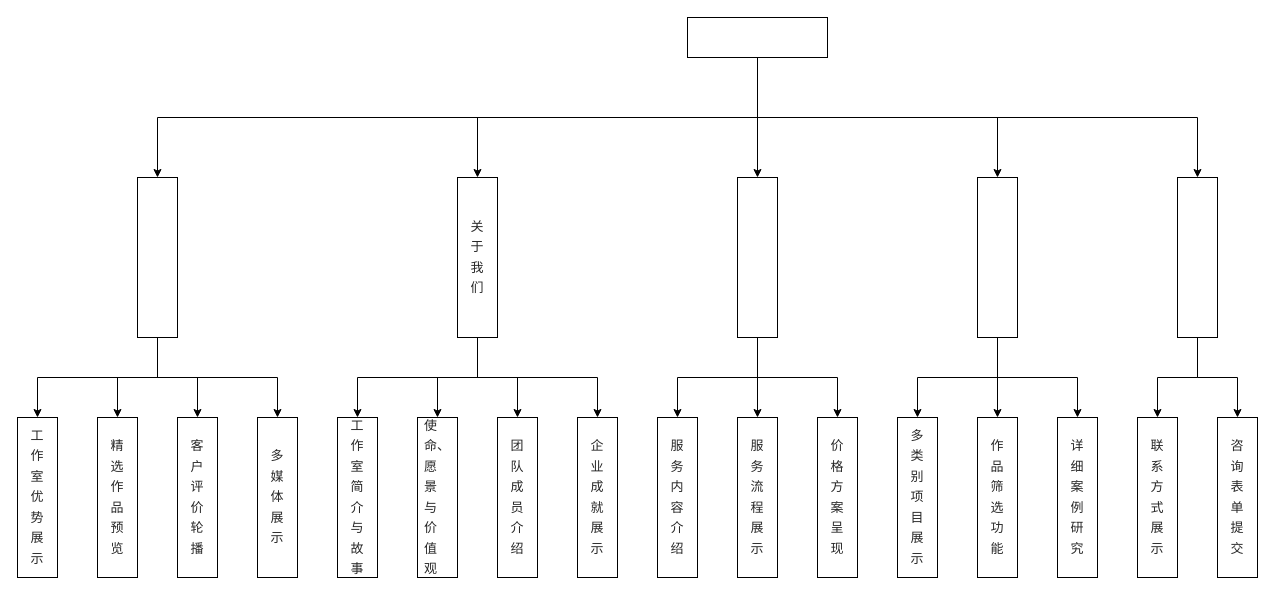
Image size: 1275x597. Some labels were removed from this diagram. Each missing label, with the centre of its shape:
作 品 集: point (997, 257)
创意工作室网站: point (757, 37)
服 务: point (757, 257)
联 系 我 们: point (1197, 257)
首 页: point (157, 257)
